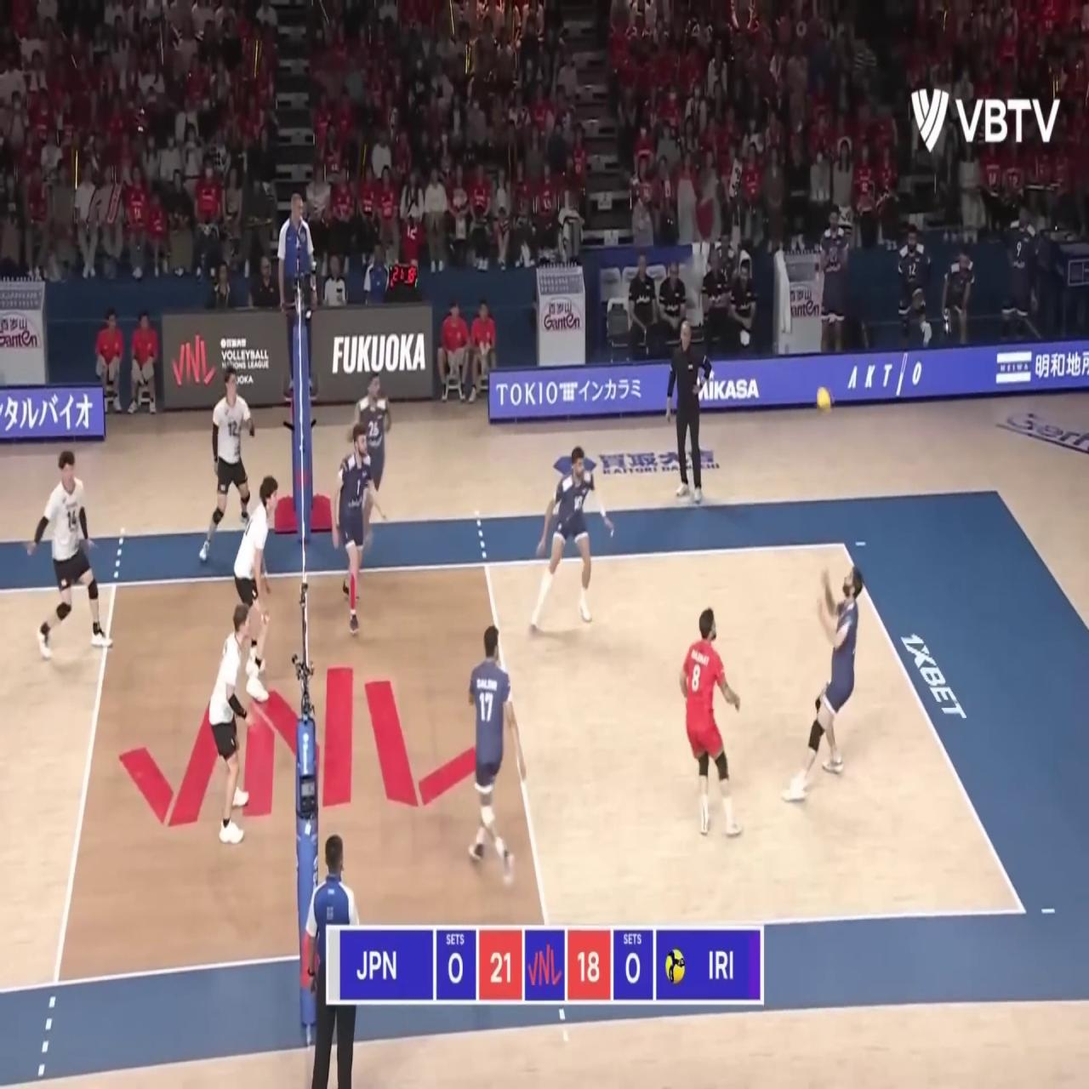ball: (817, 387, 832, 413)
